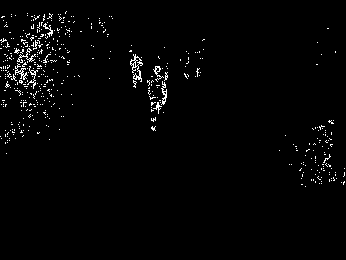person: (146, 64, 166, 133)
